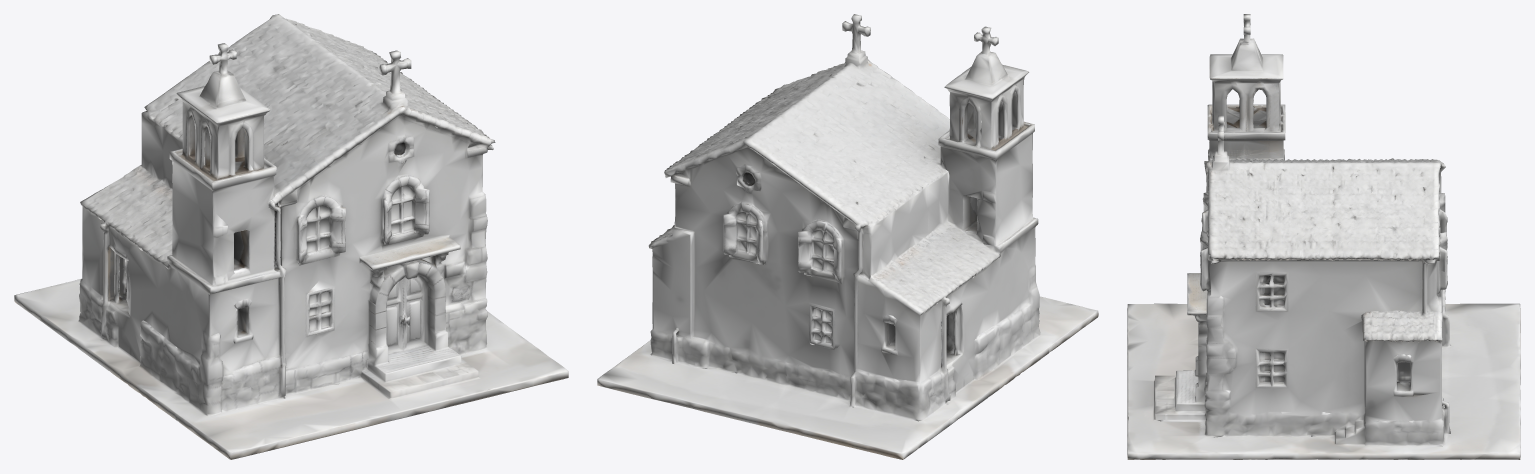
The model's file is WWII South Meshy 3D Asset.glb.
3 renders of one model, left to right at view 1: azimuth 30°, elevation 25°; view 2: azimuth 150°, elevation 25°; view 3: azimuth 270°, elevation 25°, orthographic. The views are drawn at different scales.
Bounding box in the file's own units: 17.15 × 17.09 × 19.
1 material, 1 textured.
